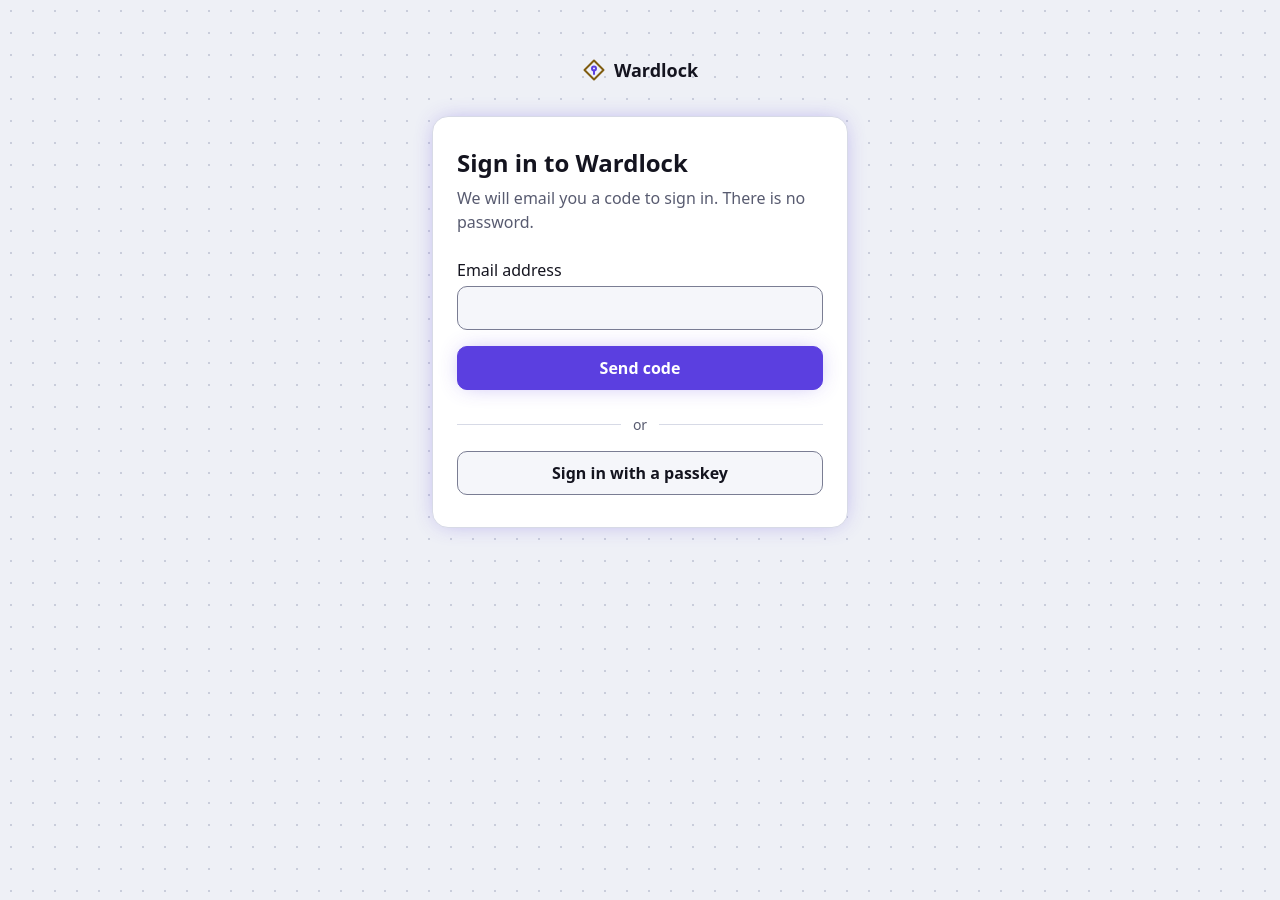
passkey sign-in › explains a cancelled prompt and a refused passkey
Click the button "Sign in with a passkey": (640, 473) [457, 451, 823, 495]
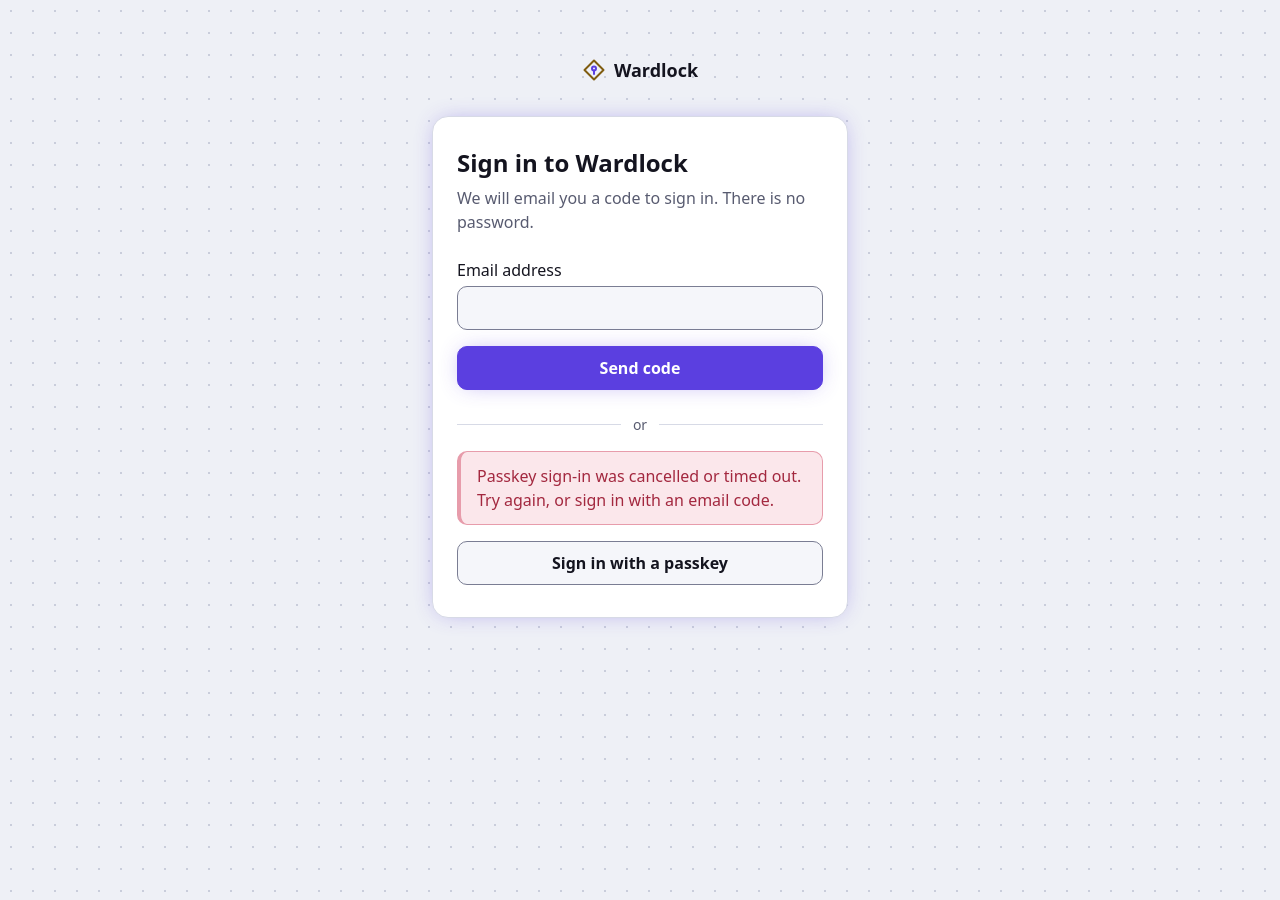
Check: the text "Passkey sign-in was cancelled or timed out" is shown, box [477, 465, 801, 511]
Click the button "Sign in with a passkey": (640, 563) [457, 541, 823, 585]
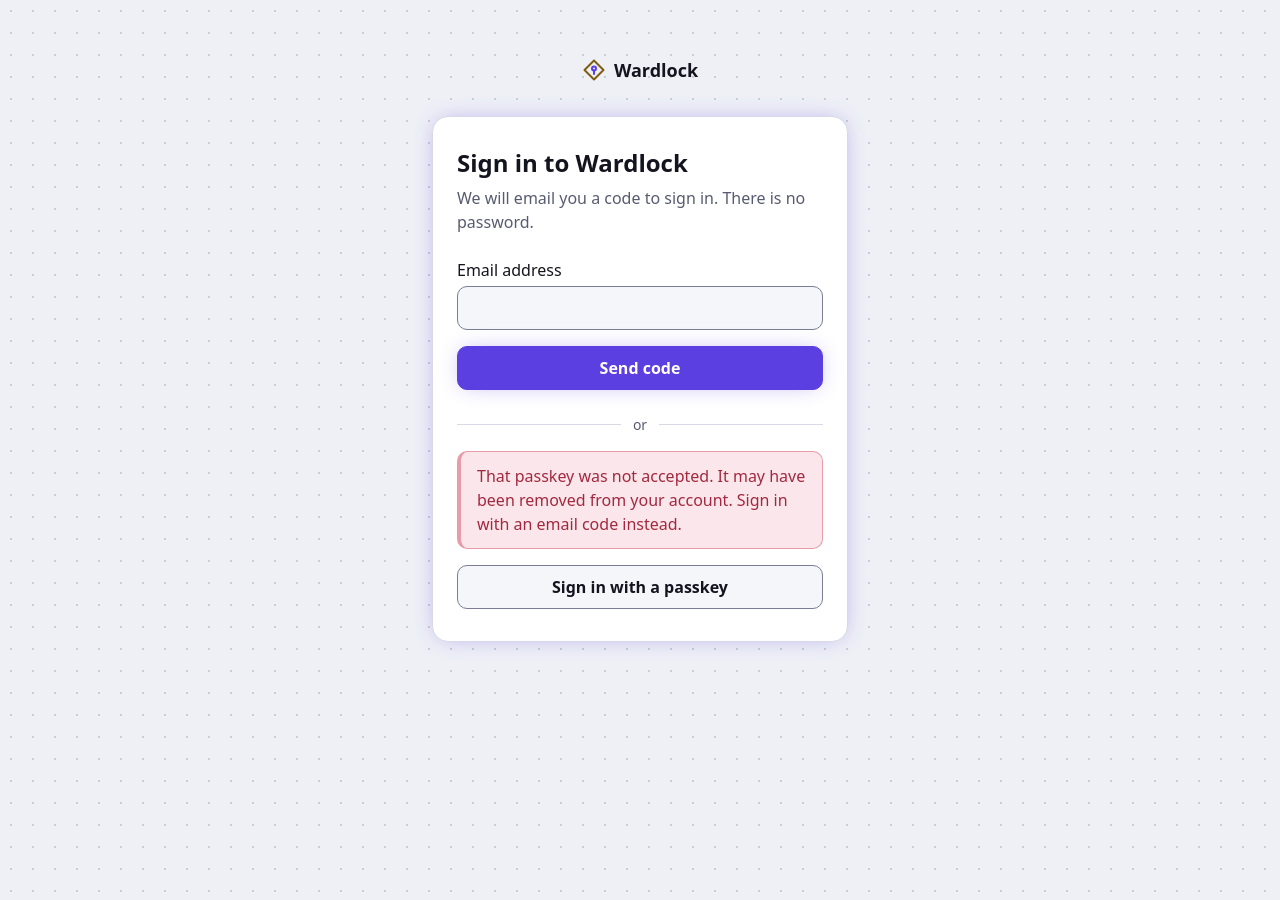
Check: the text "That passkey was not accepted" is shown, box [477, 465, 805, 535]
